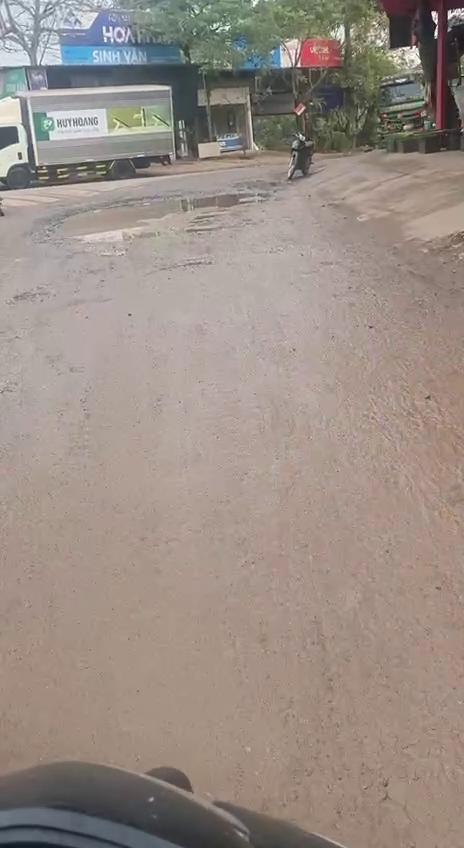pothole: (51, 188, 273, 246)
